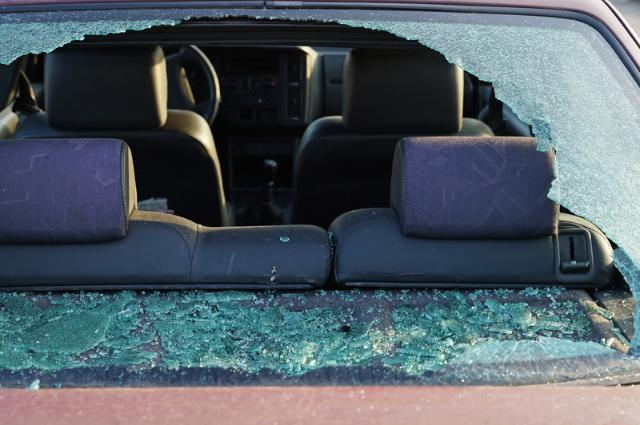Windshield: (0, 14, 640, 373)
